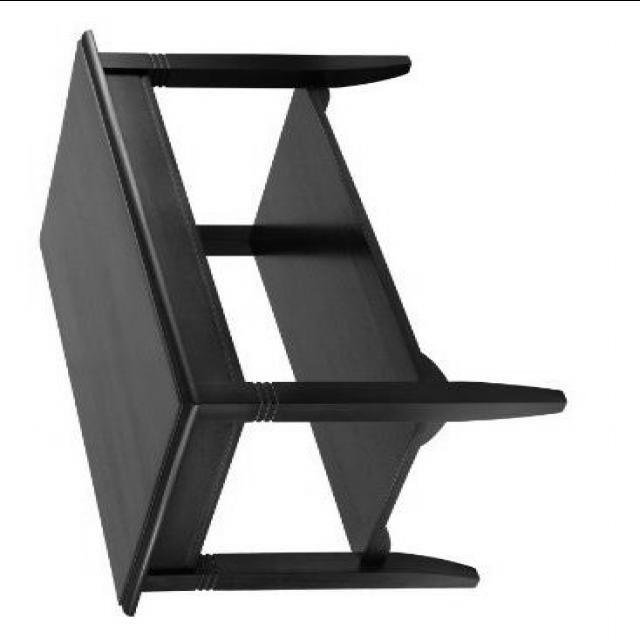table: (38, 30, 568, 616)
